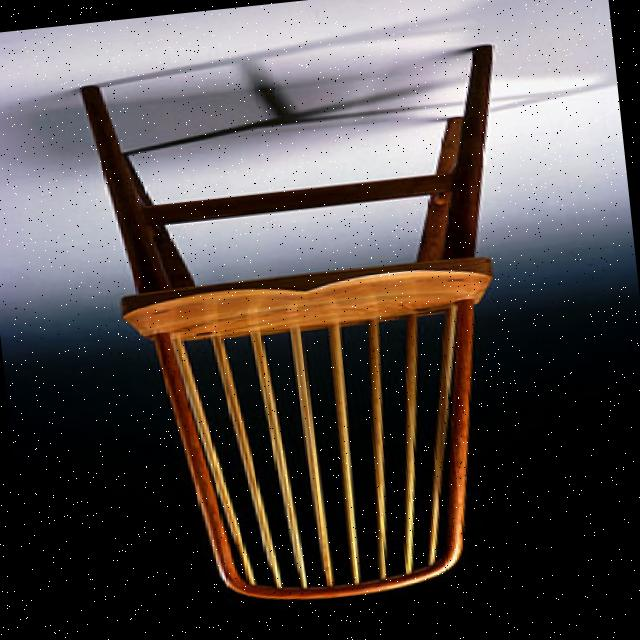Chair: (32, 9, 590, 640)
